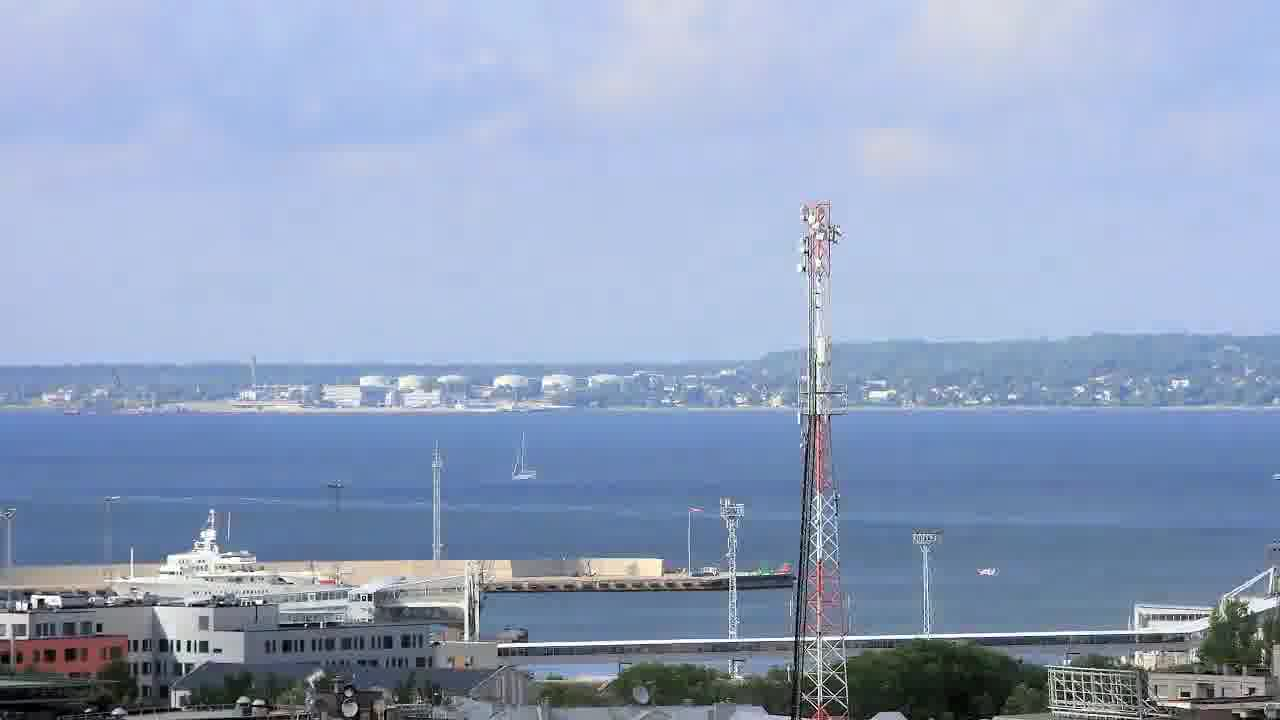type-2: (489, 425, 550, 490)
type-3: (96, 508, 381, 605)
type-4: (963, 553, 1018, 599)
